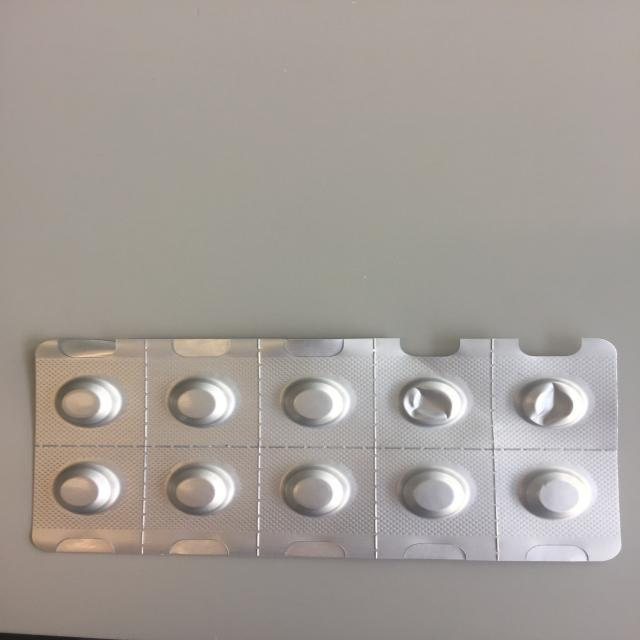Empty: (508, 372, 594, 434), (390, 372, 468, 433)
Pill: (273, 459, 356, 522), (512, 464, 595, 526), (44, 459, 127, 518), (160, 458, 240, 518), (394, 462, 473, 522), (47, 374, 129, 431), (159, 373, 242, 428), (276, 374, 350, 432)
